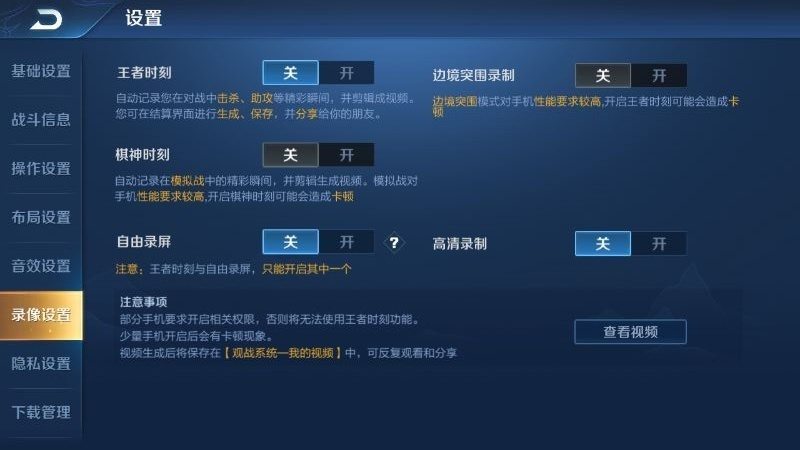return: (9, 2, 85, 34)
tag: (1, 339, 79, 382), (1, 244, 80, 283), (1, 197, 79, 231), (1, 98, 76, 131), (8, 54, 78, 88), (1, 148, 79, 177), (571, 227, 632, 255), (260, 225, 316, 255), (261, 58, 316, 86)
